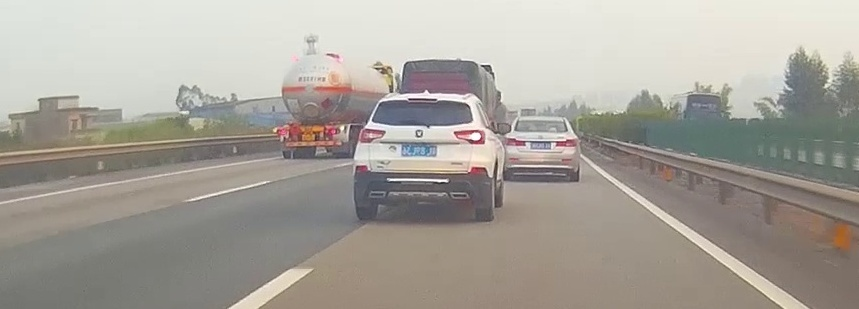L_light: (359, 128, 386, 143), (505, 137, 525, 146), (278, 129, 287, 135)
R_light: (453, 129, 485, 145), (556, 139, 577, 147), (327, 128, 341, 134)
T_light: (408, 98, 438, 102), (304, 127, 312, 130), (535, 120, 545, 122)
day-no: (503, 116, 579, 182), (276, 123, 350, 159)
day-right: (353, 93, 489, 222)
